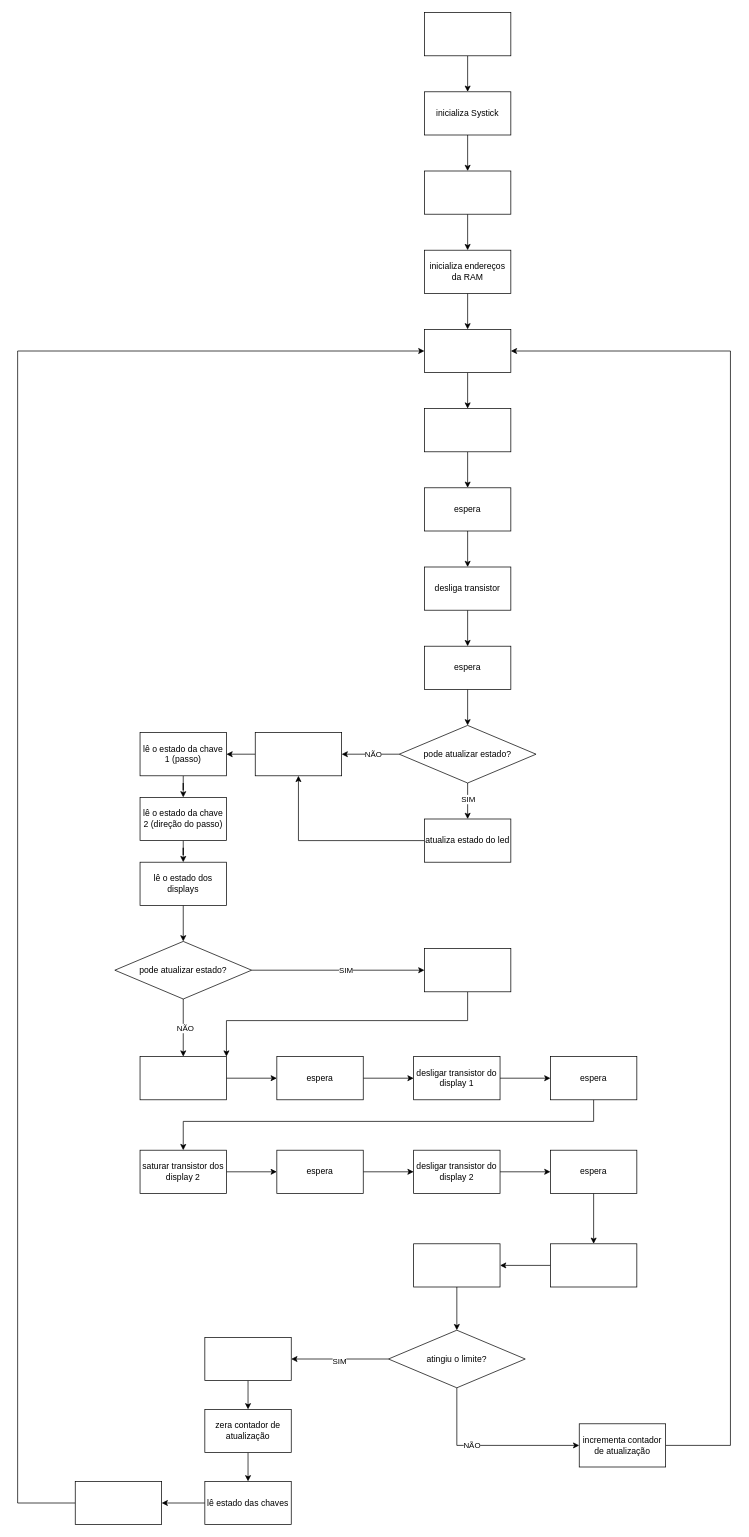
Some shapes in this 749 by 1537 pixel diagram are drawn without their labels. Each missing label, with the box of its shape:
armazena estado das chaves na RAM: (75, 1481, 162, 1525)
atualiza estado dos displays: (424, 948, 511, 992)
compara o contador de atualização com o valor máximo: (413, 1243, 500, 1287)
decodificar estados dos displays: (255, 732, 342, 776)
flag de atualização recebe 0: (550, 1243, 637, 1287)
flag de atualização recebe 1: (204, 1337, 291, 1381)
inicializa clock: (424, 12, 511, 56)
inicializa pinos e portas: (424, 170, 511, 214)
lê estado do led: (424, 329, 511, 373)
satura o transistor: (424, 408, 511, 452)
saturar transistor dos display 1: (139, 1056, 226, 1100)
